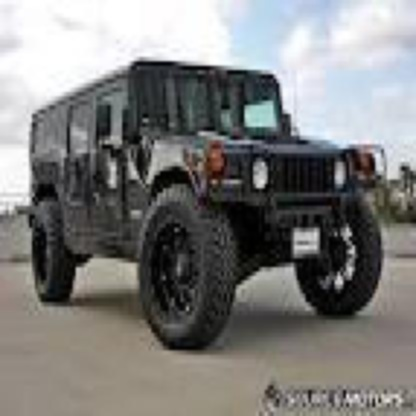Vehicle: (23, 52, 393, 364)
